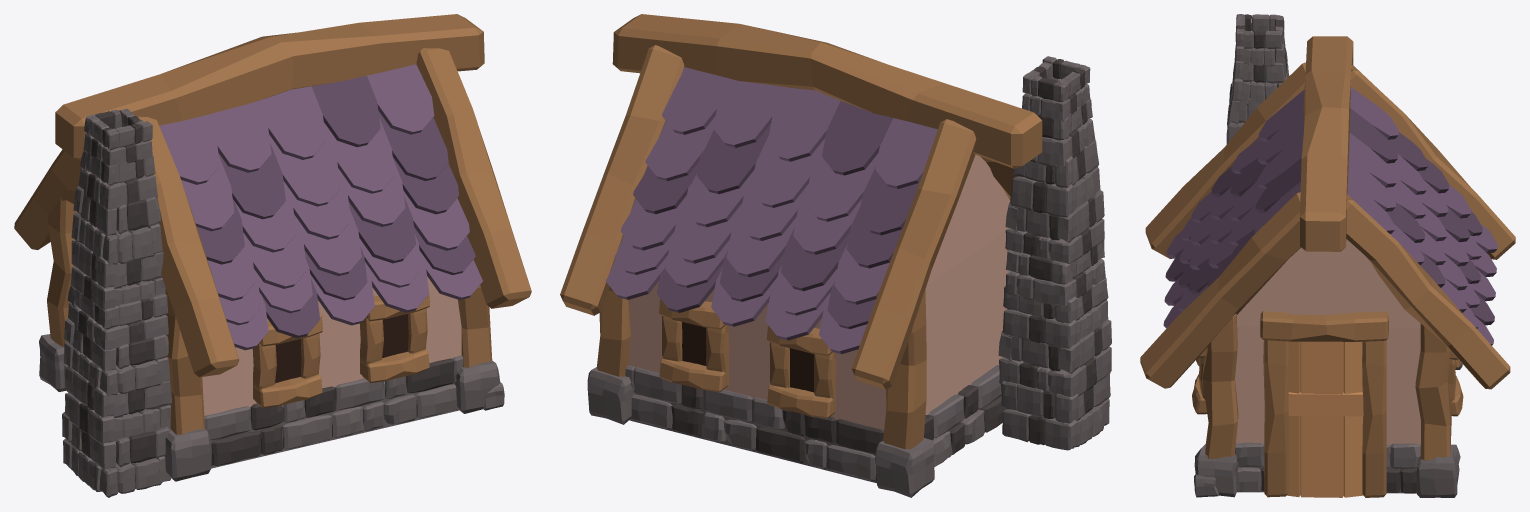
The model's file is MainBuildingTier1.fbx.
The picture shows the model from 3 angles, left to right: view 1: azimuth 30°, elevation 25°; view 2: azimuth 150°, elevation 25°; view 3: azimuth 270°, elevation 25°; orthographic projection. The views are drawn at different scales.
Parts seen in each view (by area): view 1: BEAM; view 2: BEAM; view 3: BEAM.
Boxes of the visible parts, x1,y1,x2,y2 form: BEAM: [14, 14, 531, 497]; BEAM: [560, 14, 1111, 497]; BEAM: [1140, 14, 1515, 497].
Size of the model in its own units: 1019 by 820 by 843.
